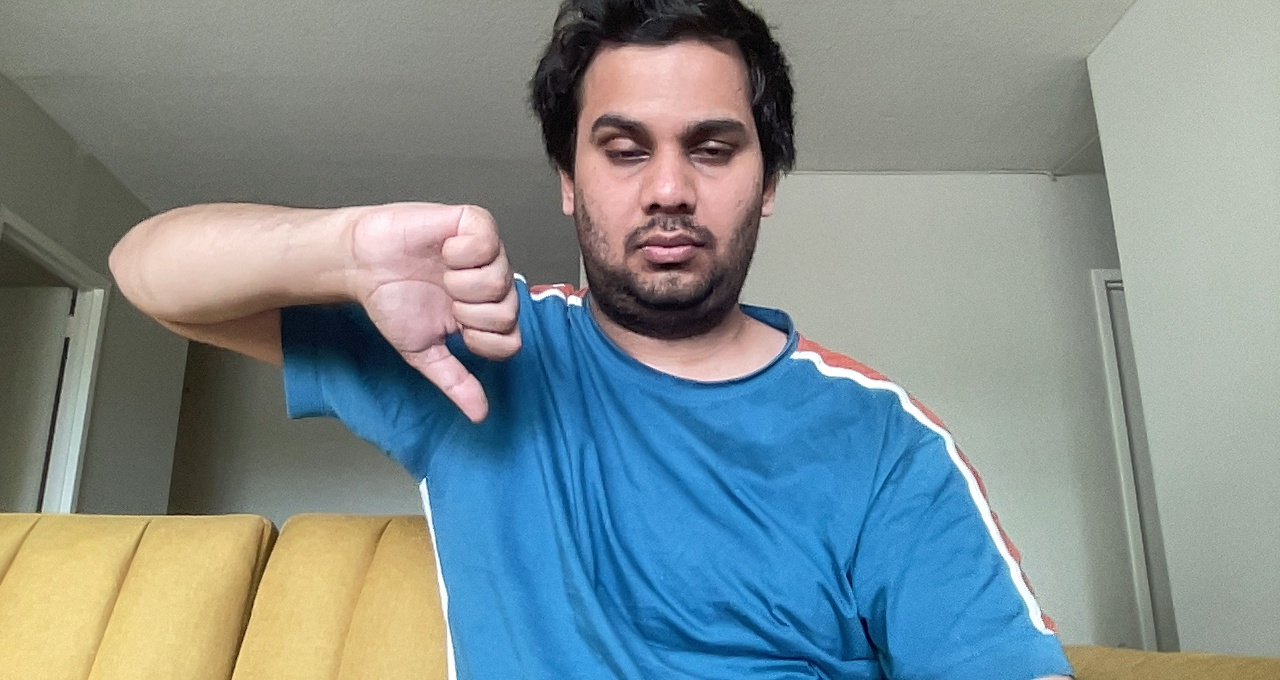thumbsdown: (342, 189, 538, 432)
